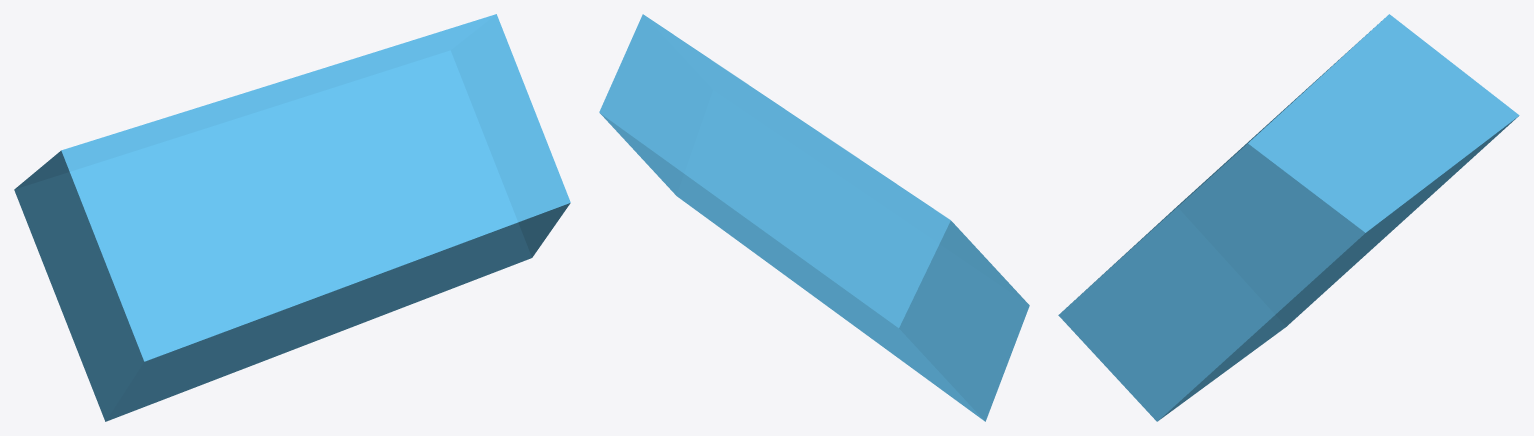
The model's file is Event_421115418_HErechit_7.fbx.
The picture shows the model from 3 angles, left to right: view 1: azimuth 30°, elevation 25°; view 2: azimuth 150°, elevation 25°; view 3: azimuth 270°, elevation 25°; orthographic projection. The views are drawn at different scales.
Visible parts, largest first — view 1: Model; view 2: Model; view 3: Model.
Part boxes in pixels (box(x1,y1,x2,y2)): Model: box(14, 14, 570, 421); Model: box(599, 14, 1029, 421); Model: box(1058, 14, 1519, 421).
Bounding box in the file's own units: 1.22 × 1 × 1.
